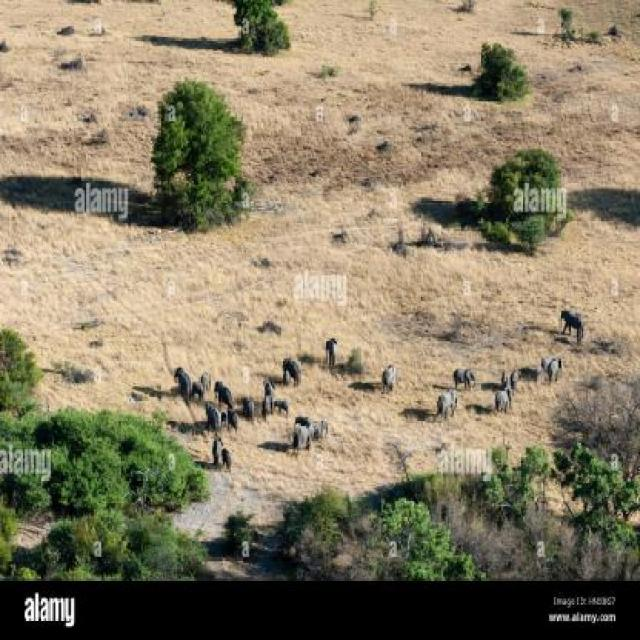elephant: (559, 305, 592, 349), (283, 418, 319, 456), (492, 384, 526, 424), (196, 402, 227, 438), (170, 360, 195, 402), (437, 388, 460, 426), (452, 362, 478, 392), (551, 351, 575, 382), (321, 331, 342, 366), (284, 348, 307, 379), (310, 414, 336, 441), (221, 443, 242, 475), (380, 360, 398, 395), (215, 375, 236, 403), (277, 364, 298, 390), (505, 365, 526, 390), (224, 405, 239, 437), (196, 362, 213, 390), (246, 391, 260, 423), (274, 395, 295, 416), (262, 395, 275, 423), (262, 375, 276, 400), (211, 432, 220, 470), (296, 412, 312, 432), (196, 381, 207, 404), (537, 362, 546, 389), (539, 345, 550, 364), (501, 366, 508, 388)
